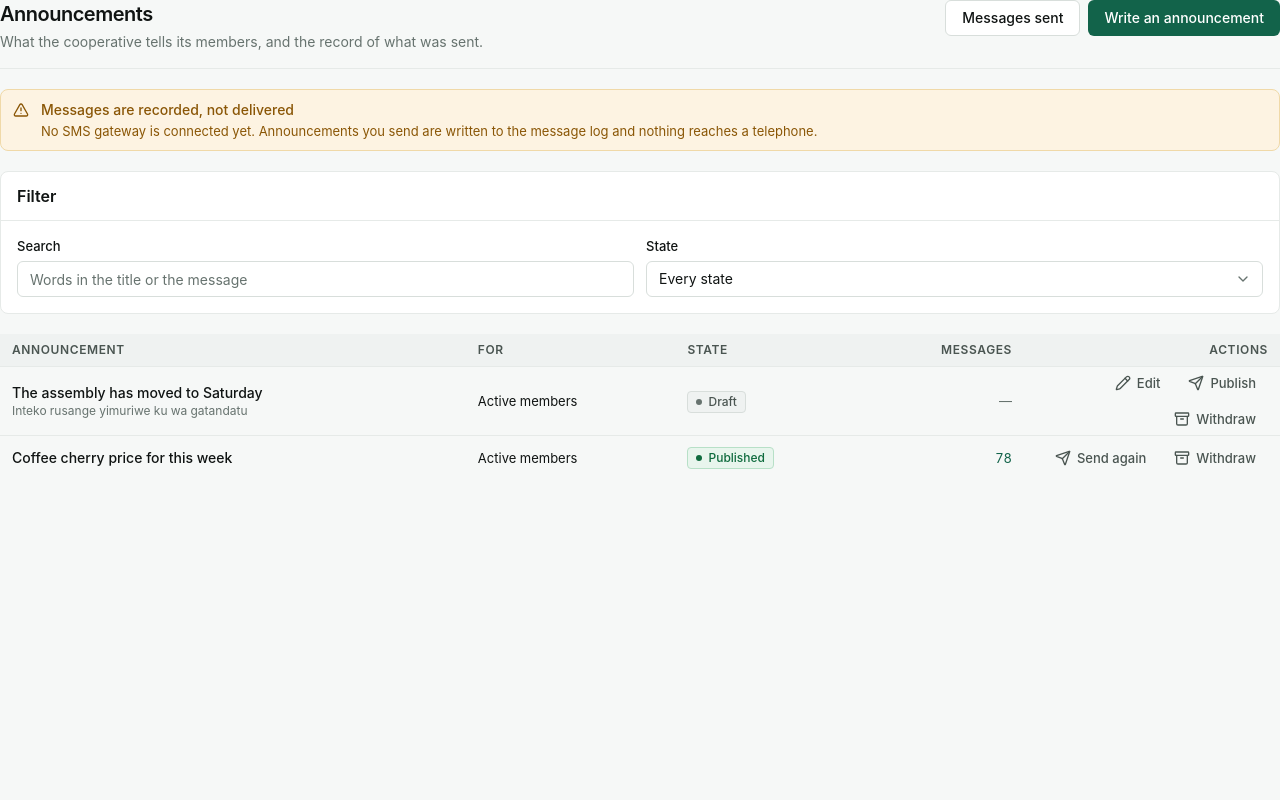
Scenario: the publish dialog › says how many members cannot be reached at all
Check: the text "The assembly has moved to Saturday" is shown, box [12,384,263,401]
Step 1. Click the button "Publish" → click(1222, 383), box [1176,367,1268,399]
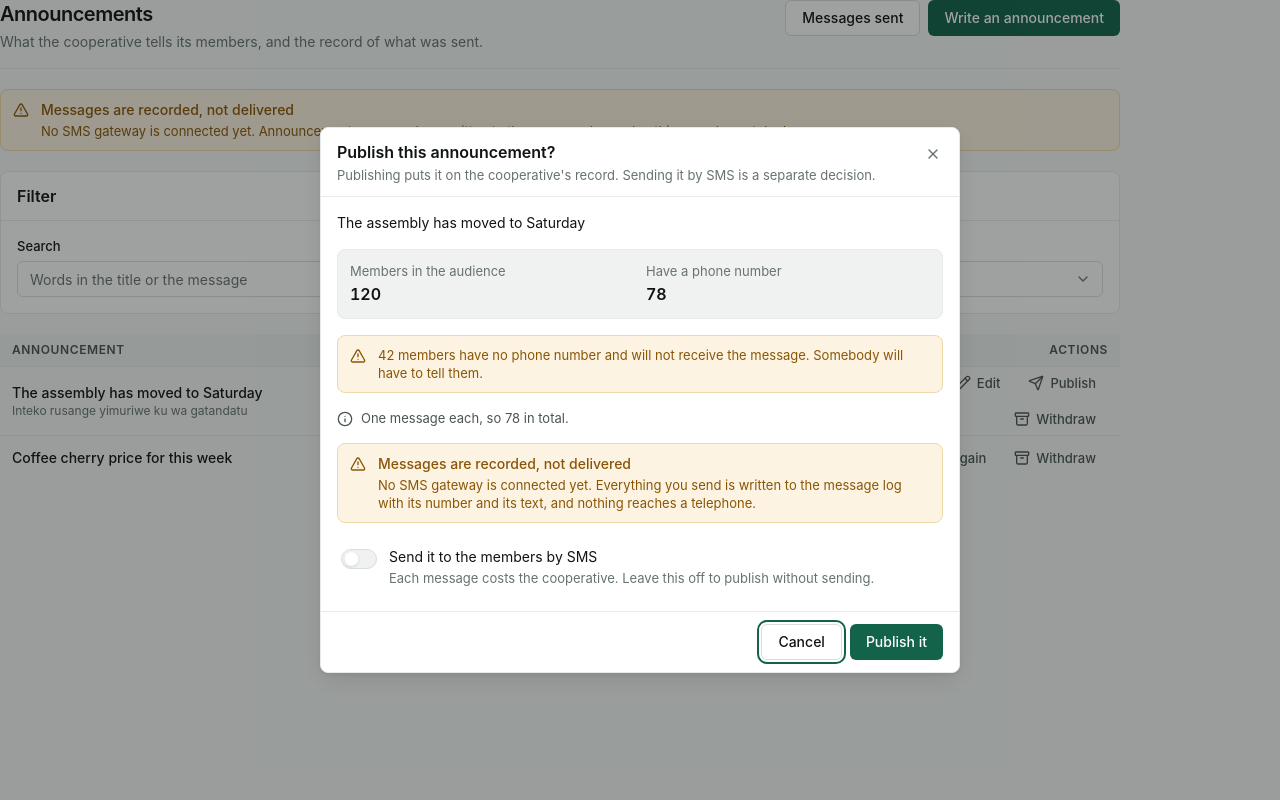
Check: the text "120" is shown, box [350,284,381,304]
Check: the text "78" is shown, box [646,284,667,304]
Check: the text "42 members have no phone number and will not receive the message" is shown, box [378,347,903,381]
Step 2. Press Escape
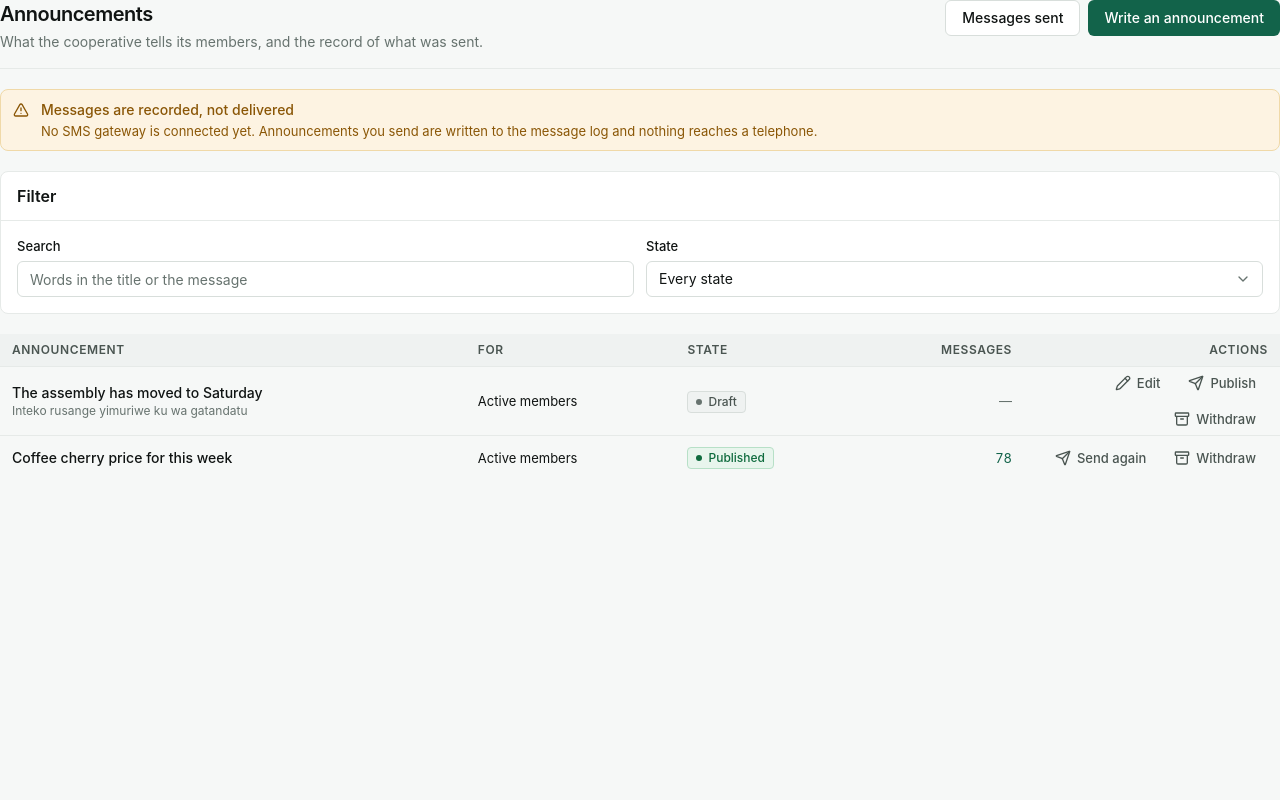
Check: the dialog is gone
